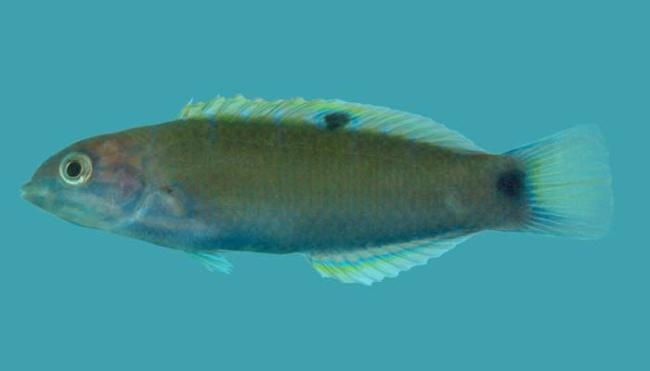fish: (20, 91, 614, 285)
